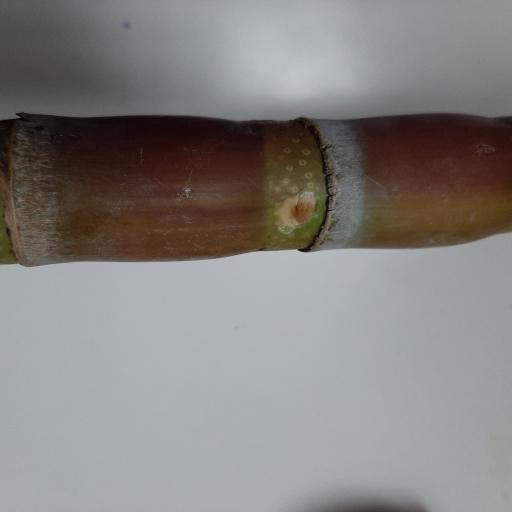Damage_Bud: (280, 189, 318, 228)
